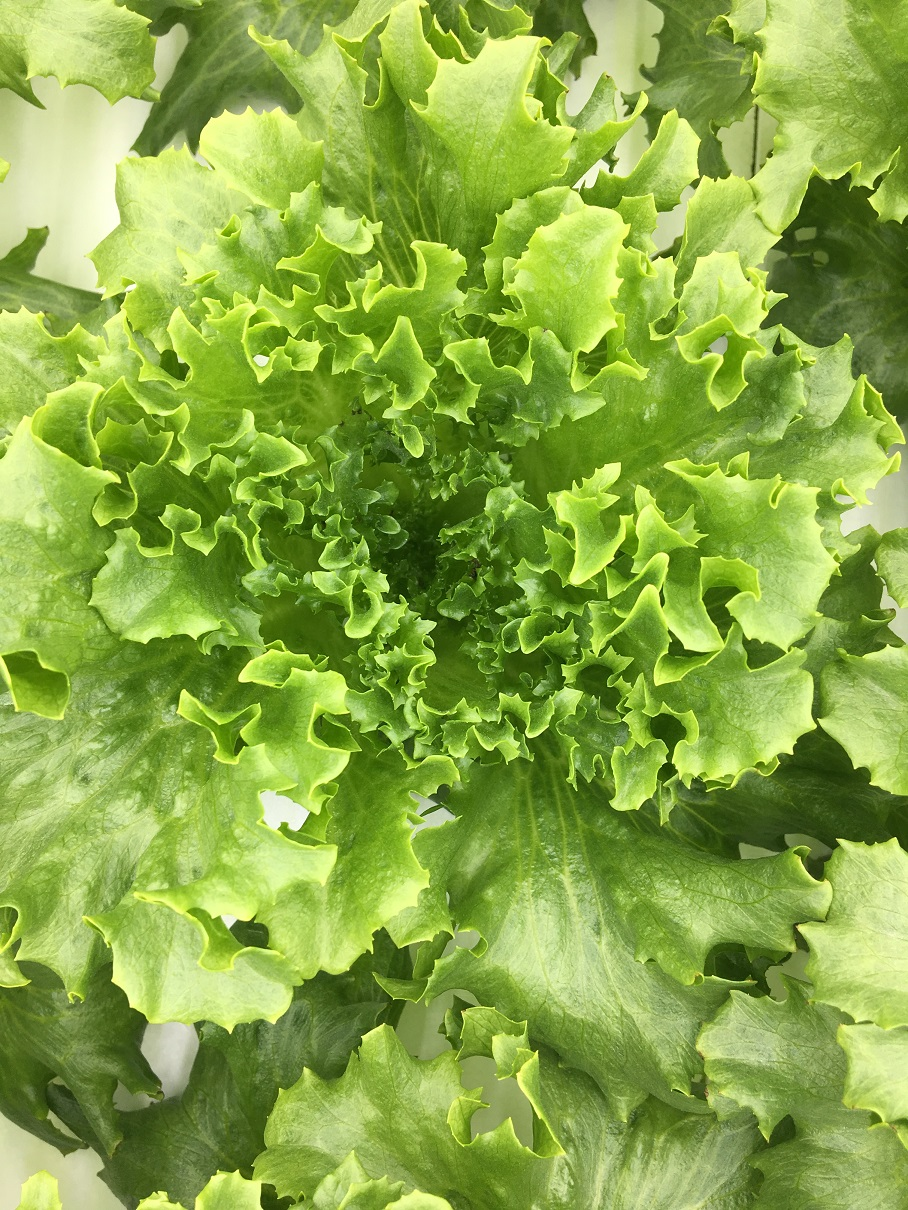tipburn: (334, 391, 374, 433), (587, 53, 624, 93), (551, 74, 584, 110), (34, 212, 62, 243), (467, 556, 495, 582), (877, 1109, 898, 1136), (697, 1083, 720, 1105), (691, 1044, 713, 1066), (790, 916, 807, 936)
